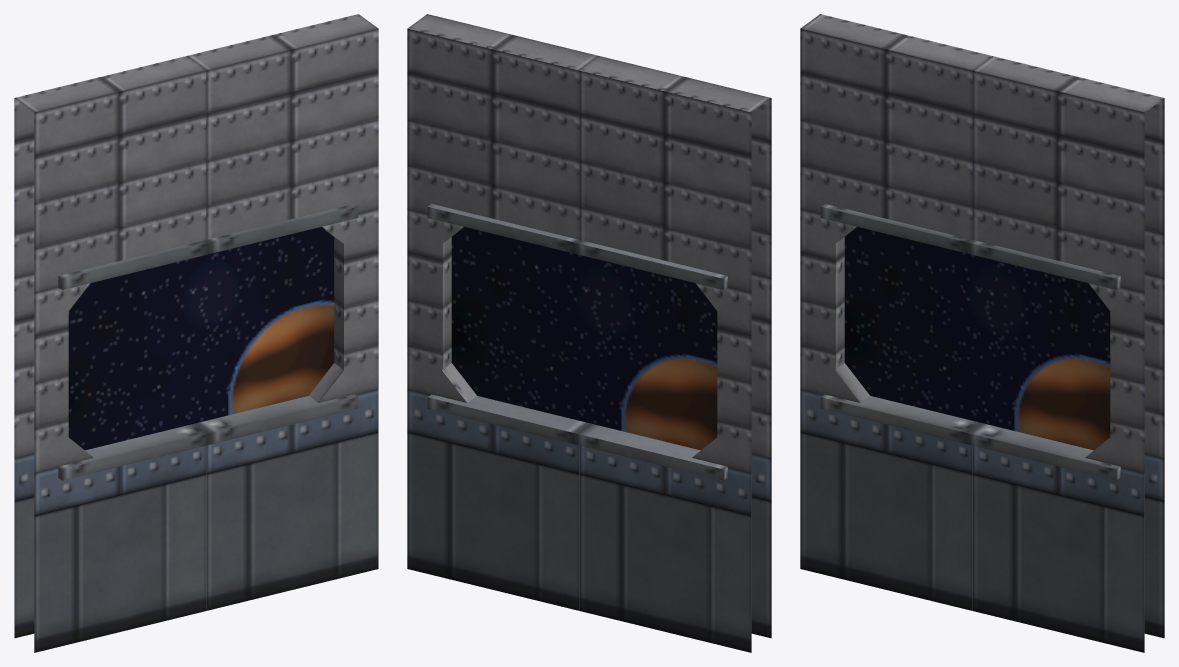
File: wall_viewport.obj
3 views of the same model, side by side, from view 1: azimuth 30°, elevation 25°; view 2: azimuth 150°, elevation 25°; view 3: azimuth 330°, elevation 25° (orthographic).
Visible parts, largest first — view 1: wall_viewport_4, wall_viewport_2, wall_viewport_1, wall_viewport, wall_viewport_3; view 2: wall_viewport_4, wall_viewport_2, wall_viewport_1, wall_viewport, wall_viewport_3; view 3: wall_viewport_4, wall_viewport_2, wall_viewport_1, wall_viewport_3, wall_viewport.
Boxes of the visible parts, box(x1,y1,x2,y2) form: wall_viewport_4: box(58, 204, 358, 480); wall_viewport_2: box(49, 22, 343, 310); wall_viewport_1: box(68, 363, 343, 644); wall_viewport: box(14, 89, 68, 652); wall_viewport_3: box(324, 14, 378, 577); wall_viewport_4: box(427, 204, 727, 480); wall_viewport_2: box(442, 22, 736, 310); wall_viewport_1: box(442, 363, 717, 644); wall_viewport: box(717, 89, 771, 652); wall_viewport_3: box(407, 14, 461, 577); wall_viewport_4: box(820, 204, 1120, 480); wall_viewport_2: box(835, 22, 1129, 310); wall_viewport_1: box(835, 363, 1110, 644); wall_viewport_3: box(1110, 89, 1164, 652); wall_viewport: box(800, 14, 854, 577).
Size of the model in its own units: 2 by 3 by 0.28.
Materials: 1 (1 with a texture image).
